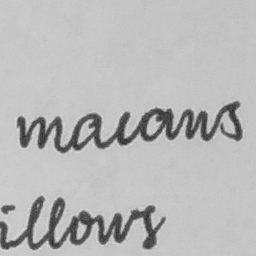a: (137, 105, 177, 144), (68, 110, 105, 152)
c: (111, 109, 135, 148)
m: (14, 112, 65, 156)
s: (217, 98, 243, 143)
w: (182, 105, 224, 143)
